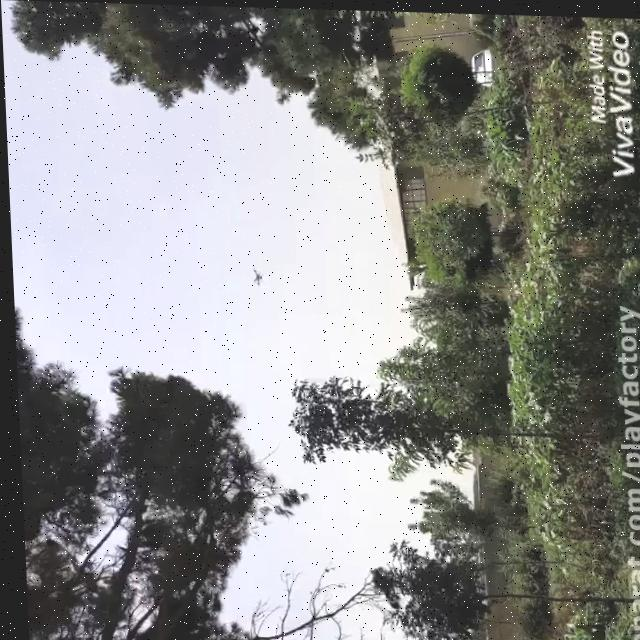drone: (242, 267, 263, 286)
